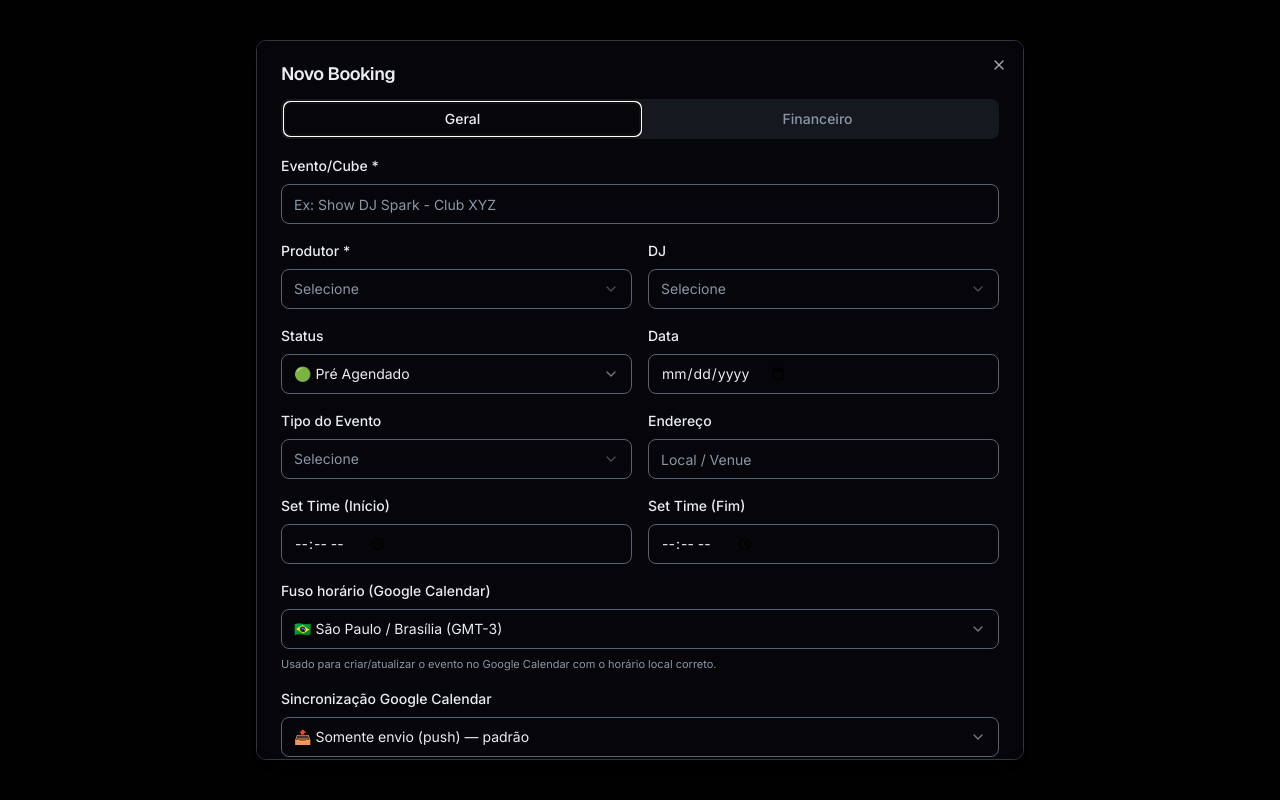
Scenario: BookingForm — aba Financeiro (campos novos) › renderiza os 5 campos novos na aba Financeiro
Click the tab "Financeiro" at x=818, y=119, box [640,103,995,135]
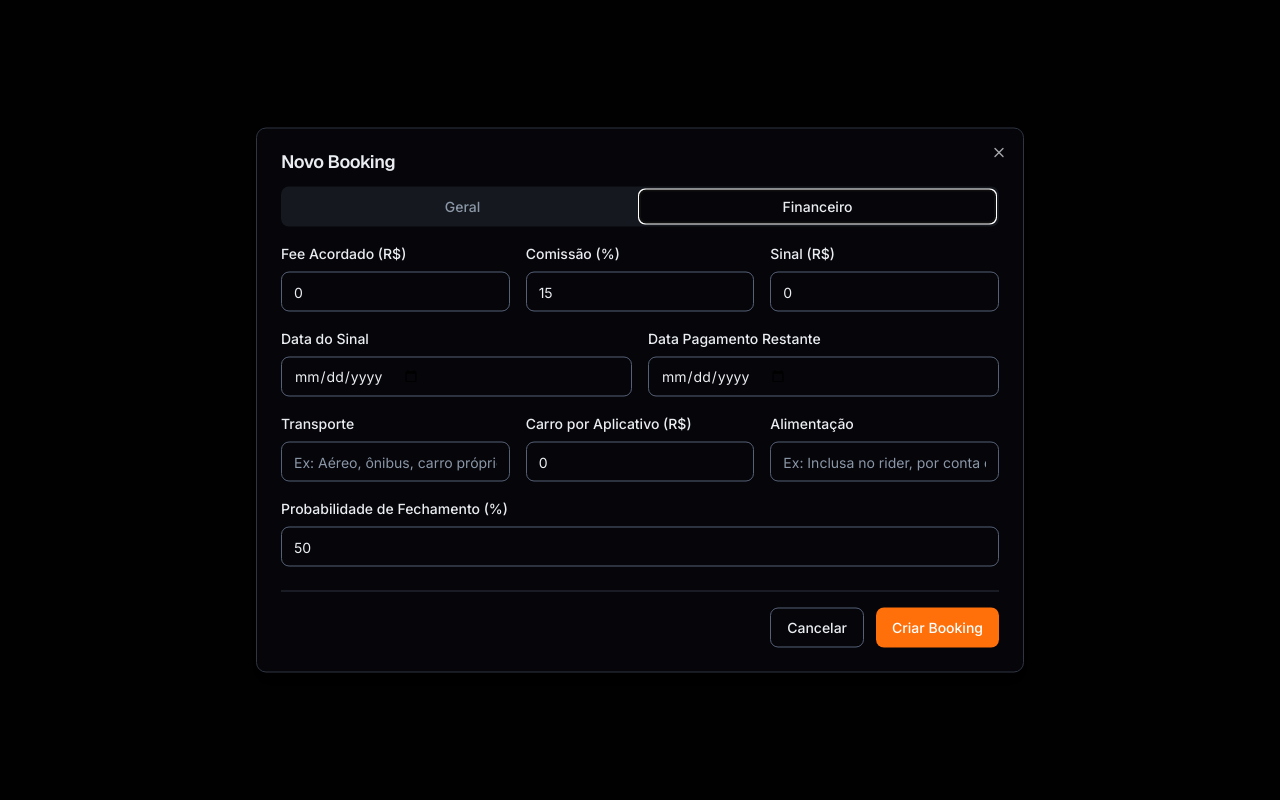
Result: the date field labelled "Data do Sinal" is shown at [281,356,632,396]
Result: the date field labelled "Data Pagamento Restante" is shown at [648,356,999,396]
Result: the field labelled "Transporte" is shown at [281,442,510,482]
